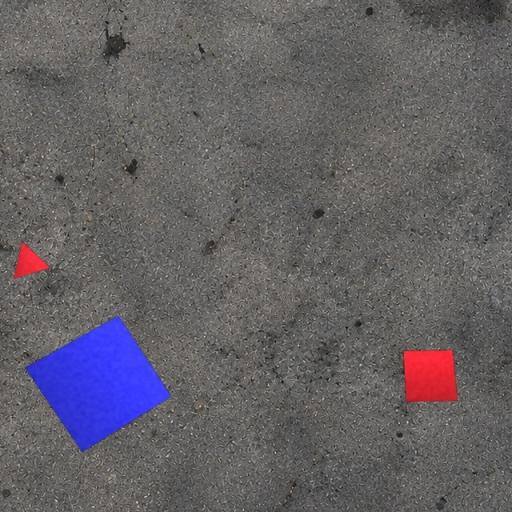BLUE_SQUARE: (24, 315, 172, 453)
RED_SQUARE: (402, 349, 458, 402)
